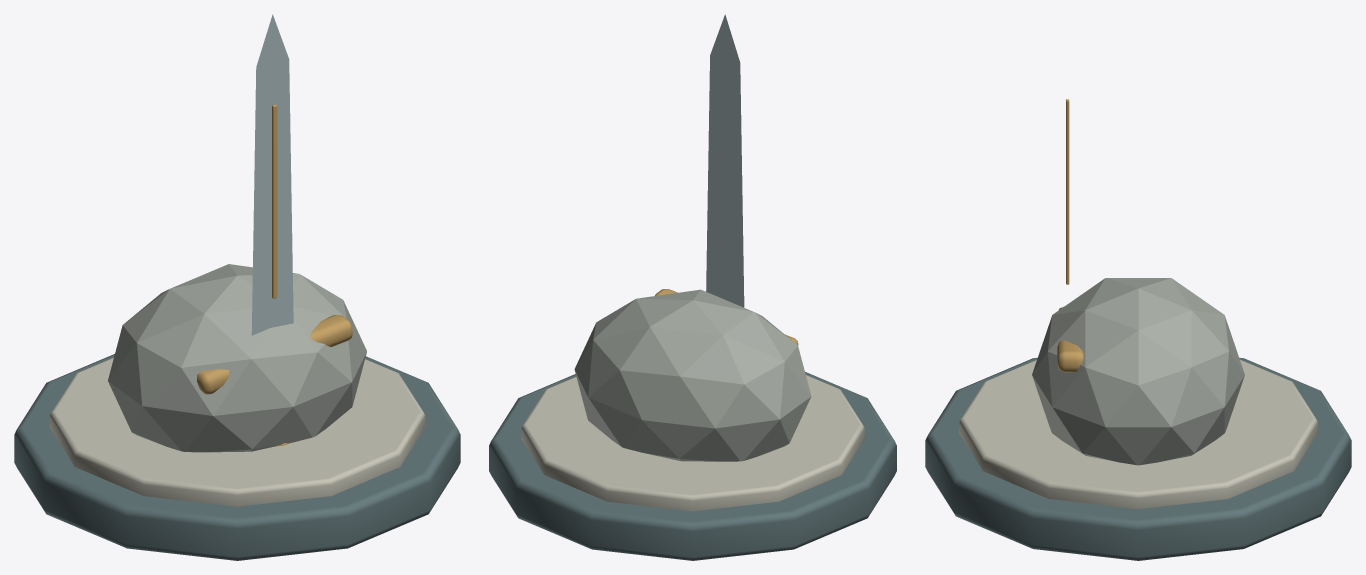
Rendered from SM_SwordMonument_01.fbx.
The picture shows the model from 3 angles, left to right: view 1: azimuth 30°, elevation 25°; view 2: azimuth 150°, elevation 25°; view 3: azimuth 270°, elevation 25°; orthographic projection. The views are drawn at different scales.
Parts seen in each view (by area): view 1: SM_SwordMonument_01; view 2: SM_SwordMonument_01; view 3: SM_SwordMonument_01.
Boxes of the visible parts, x1,y1,x2,y2 form: SM_SwordMonument_01: (14, 14, 460, 560); SM_SwordMonument_01: (489, 14, 896, 560); SM_SwordMonument_01: (925, 99, 1351, 560).
Bounding box in the file's own units: 3.04 × 3.62 × 3.04.
